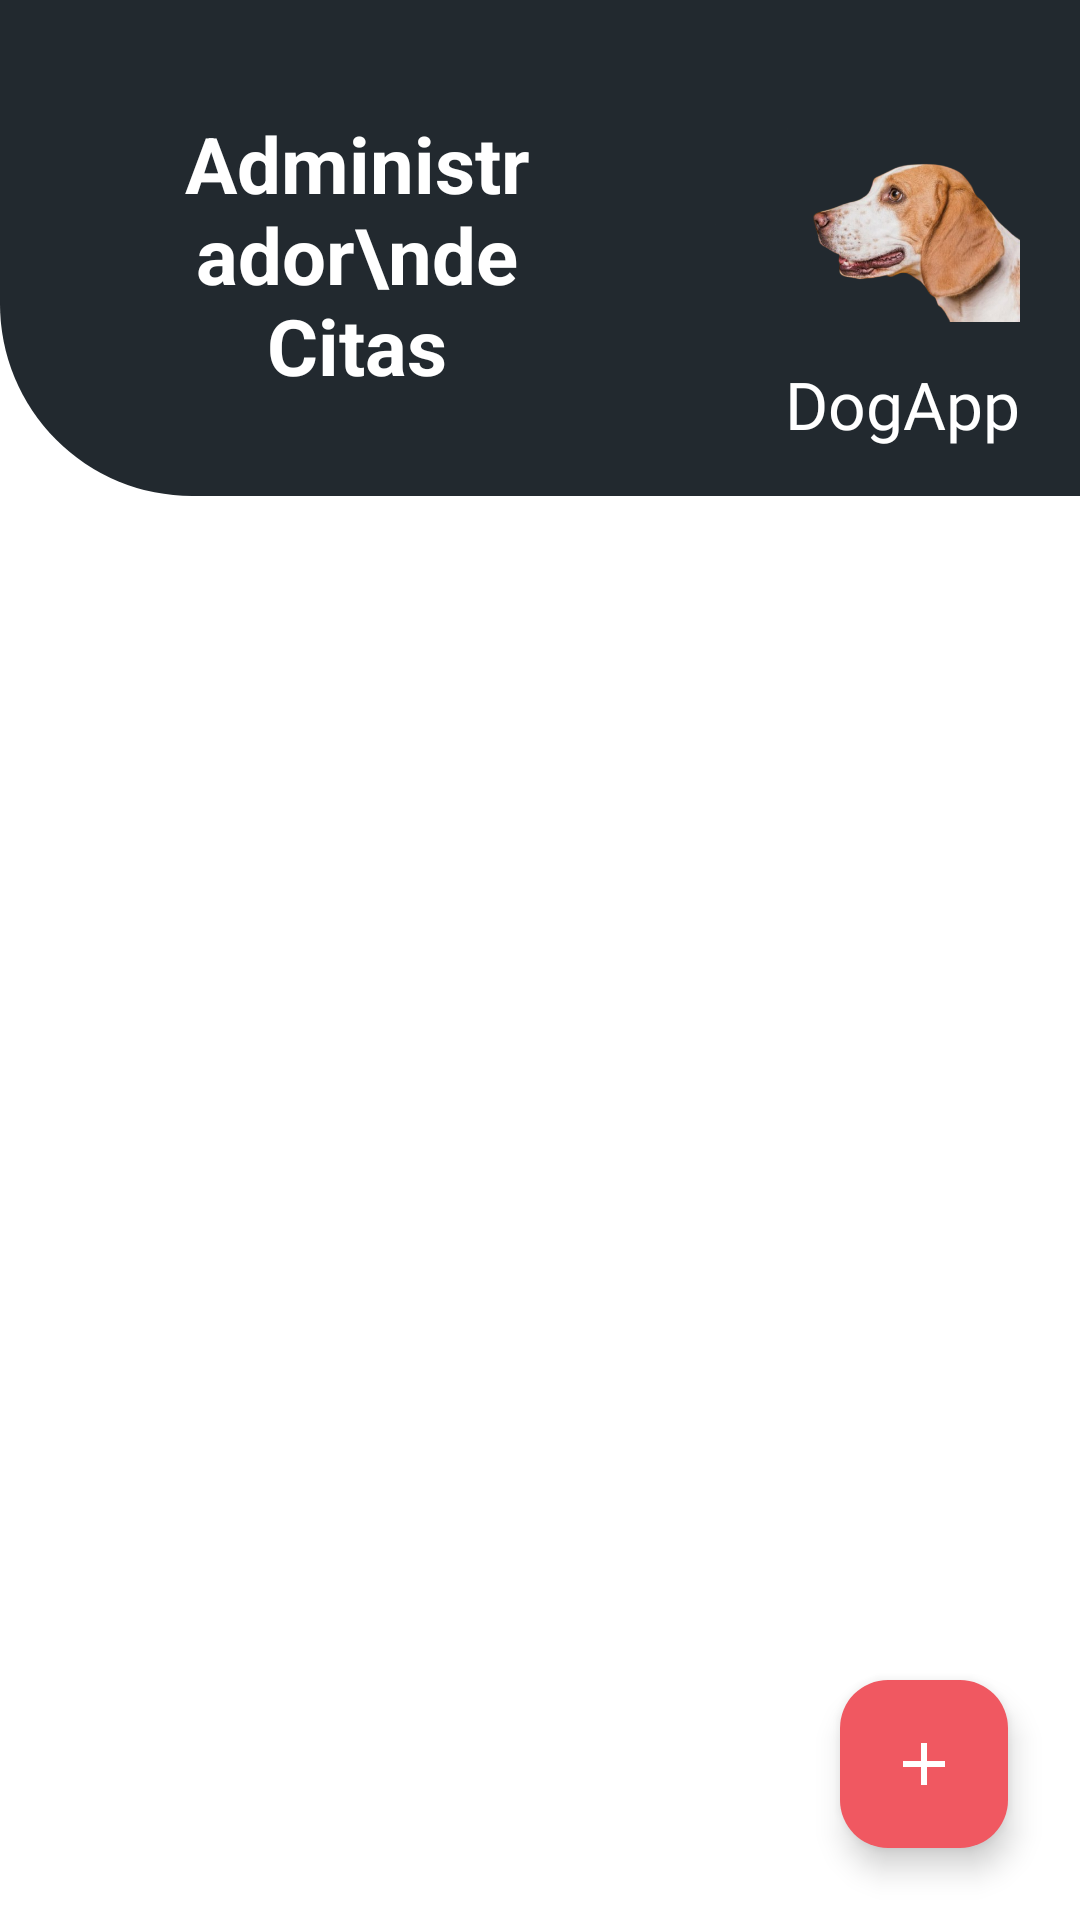

Named icons in this screenshot (1080w x 1920h) and their centers, [x,y]:
dog head: [916,243]
Nueva Cita: [924,1764]
